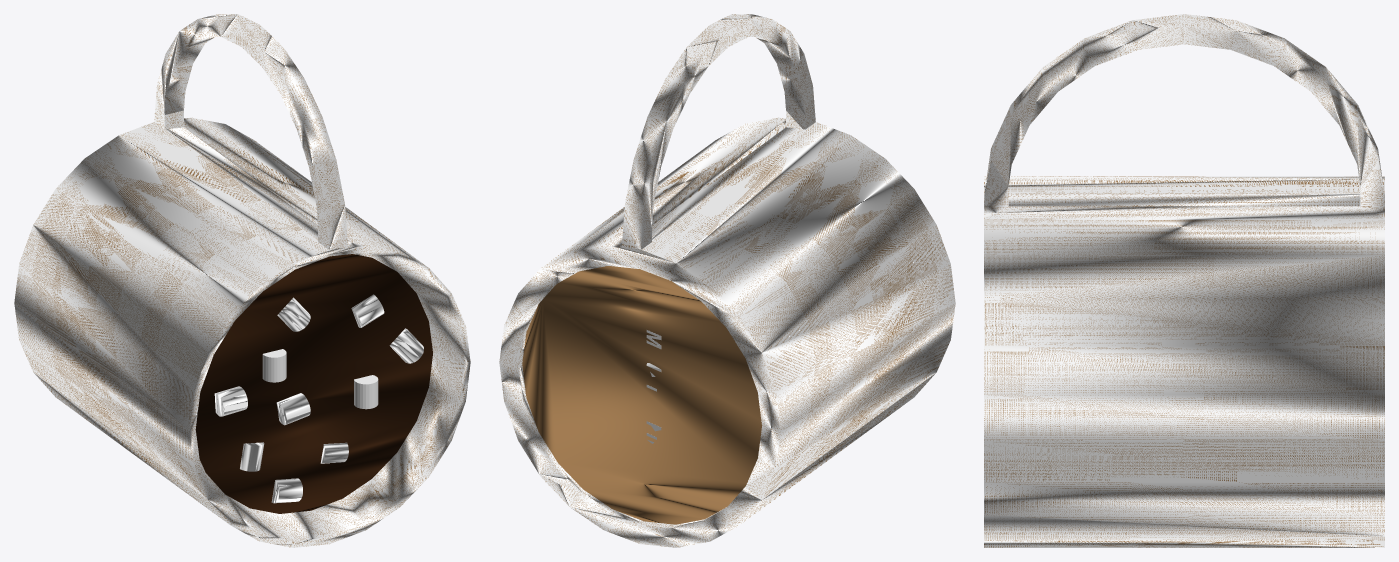
Rendered from model_align.obj.
The picture shows the model from 3 angles, left to right: view 1: azimuth 30°, elevation 25°; view 2: azimuth 150°, elevation 25°; view 3: azimuth 270°, elevation 25°; orthographic projection. The views are drawn at different scales.
Size of the model in its own units: 0.0888 by 0.1358 by 0.0955.
